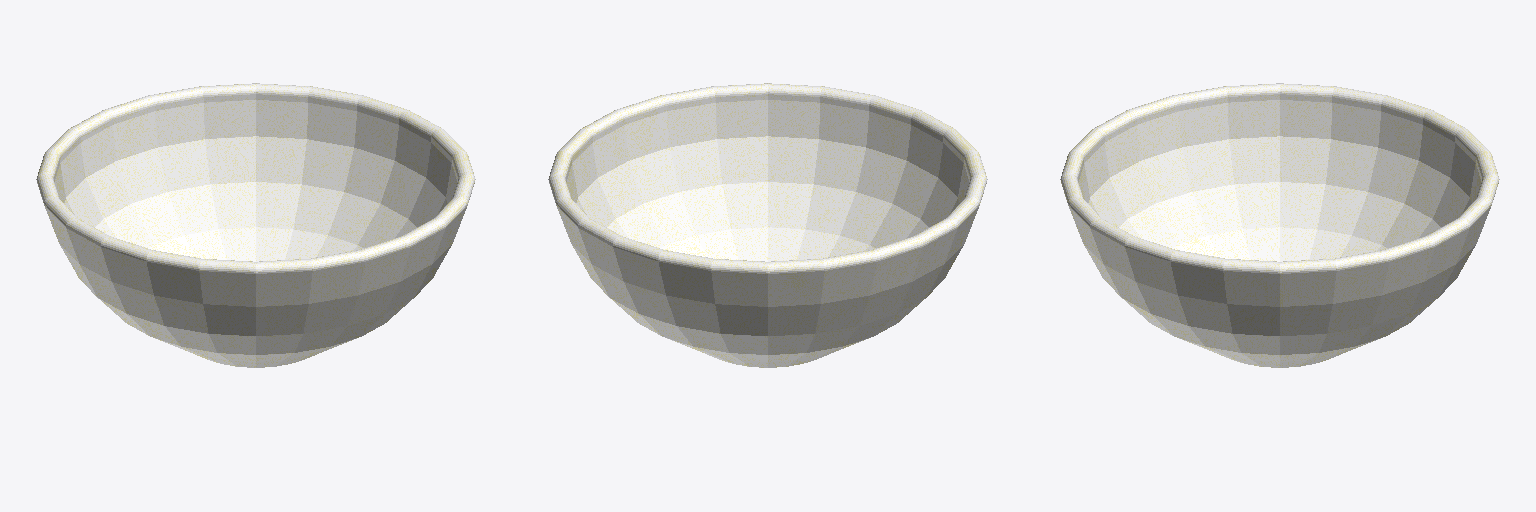
The picture shows the model from 3 angles: view 1: azimuth 30°, elevation 25°; view 2: azimuth 150°, elevation 25°; view 3: azimuth 270°, elevation 25°; orthographic projection.
Visible parts, largest first — view 1: SketchUp_ID3.004; view 2: SketchUp_ID3.004; view 3: SketchUp_ID3.004.
Part boxes in pixels (x1,y1,x2,y2): SketchUp_ID3.004: (36,83,475,367); SketchUp_ID3.004: (548,83,987,367); SketchUp_ID3.004: (1060,83,1499,367).
Bounding box in the file's own units: 0.4533 × 0.1881 × 0.4533.